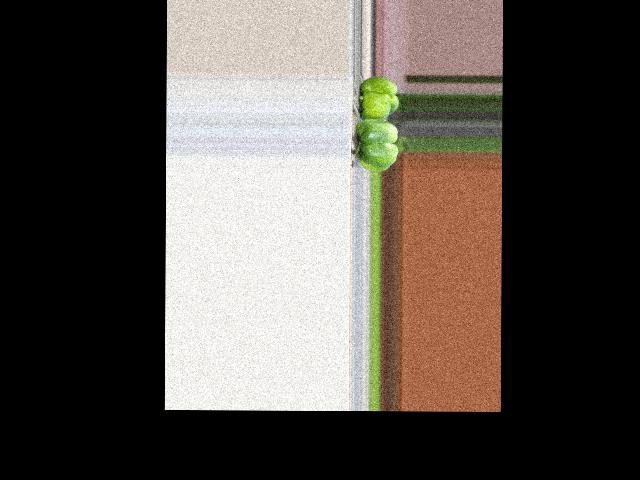bell_pepper: (356, 75, 400, 120)
